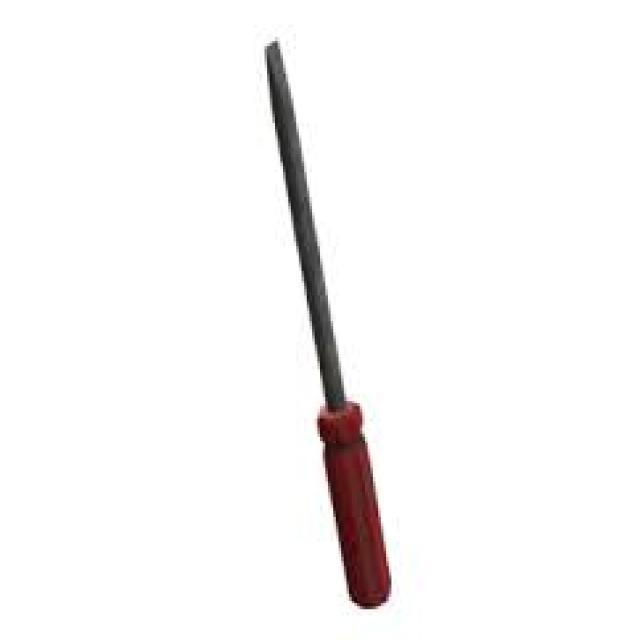screw driver: (239, 15, 430, 617)
